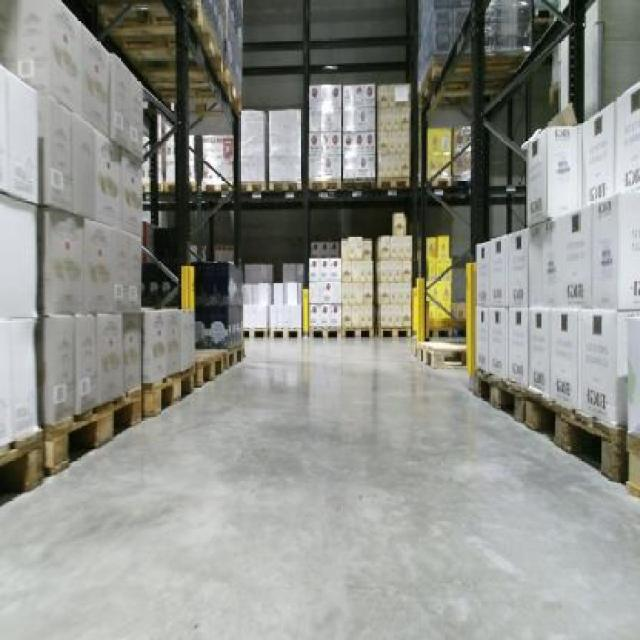pallet: (534, 378, 630, 485), (48, 390, 148, 462), (467, 361, 529, 422), (210, 341, 256, 382), (302, 320, 371, 343), (243, 318, 292, 344), (370, 325, 422, 338)
